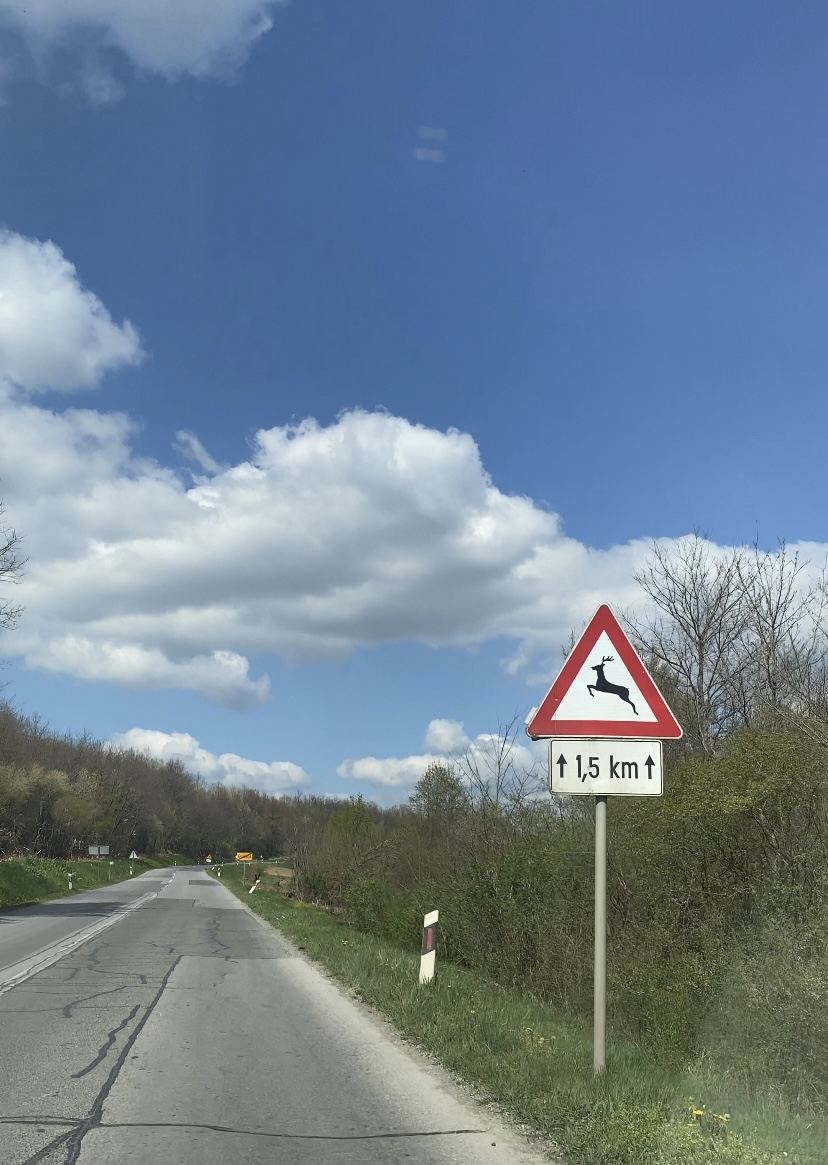Divljač na cesti: (525, 603, 683, 739)
